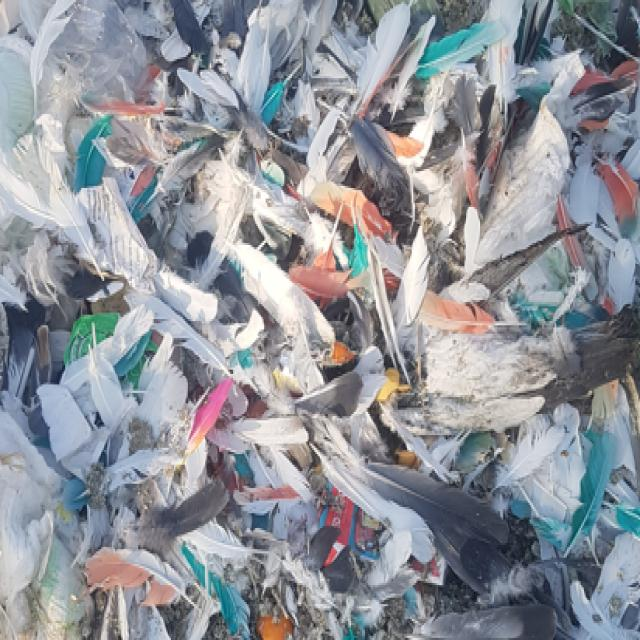paper: (331, 414, 526, 551), (2, 125, 112, 287), (320, 87, 406, 195), (352, 0, 412, 120), (82, 321, 131, 436), (234, 408, 315, 463)
